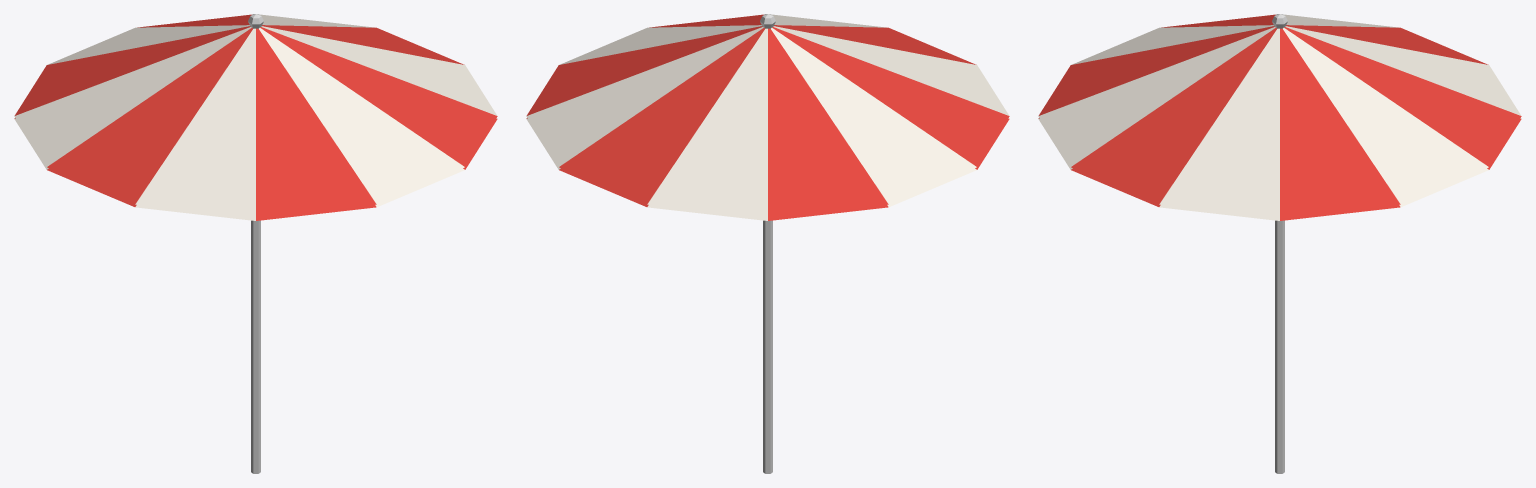
Rendered from Prop_Umbrella_Red.fbx.
3 renders of one model, left to right at view 1: azimuth 30°, elevation 25°; view 2: azimuth 150°, elevation 25°; view 3: azimuth 270°, elevation 25°, orthographic.
Visible parts, largest first — view 1: Prop_Umbrella_Red.001; view 2: Prop_Umbrella_Red.001; view 3: Prop_Umbrella_Red.001.
Part boxes in pixels (x1=…): Prop_Umbrella_Red.001: x1=14, y1=14, x2=497, y2=473; Prop_Umbrella_Red.001: x1=526, y1=14, x2=1009, y2=473; Prop_Umbrella_Red.001: x1=1038, y1=14, x2=1521, y2=473.
Size of the model in its own units: 2.4 by 2.51 by 2.4.
